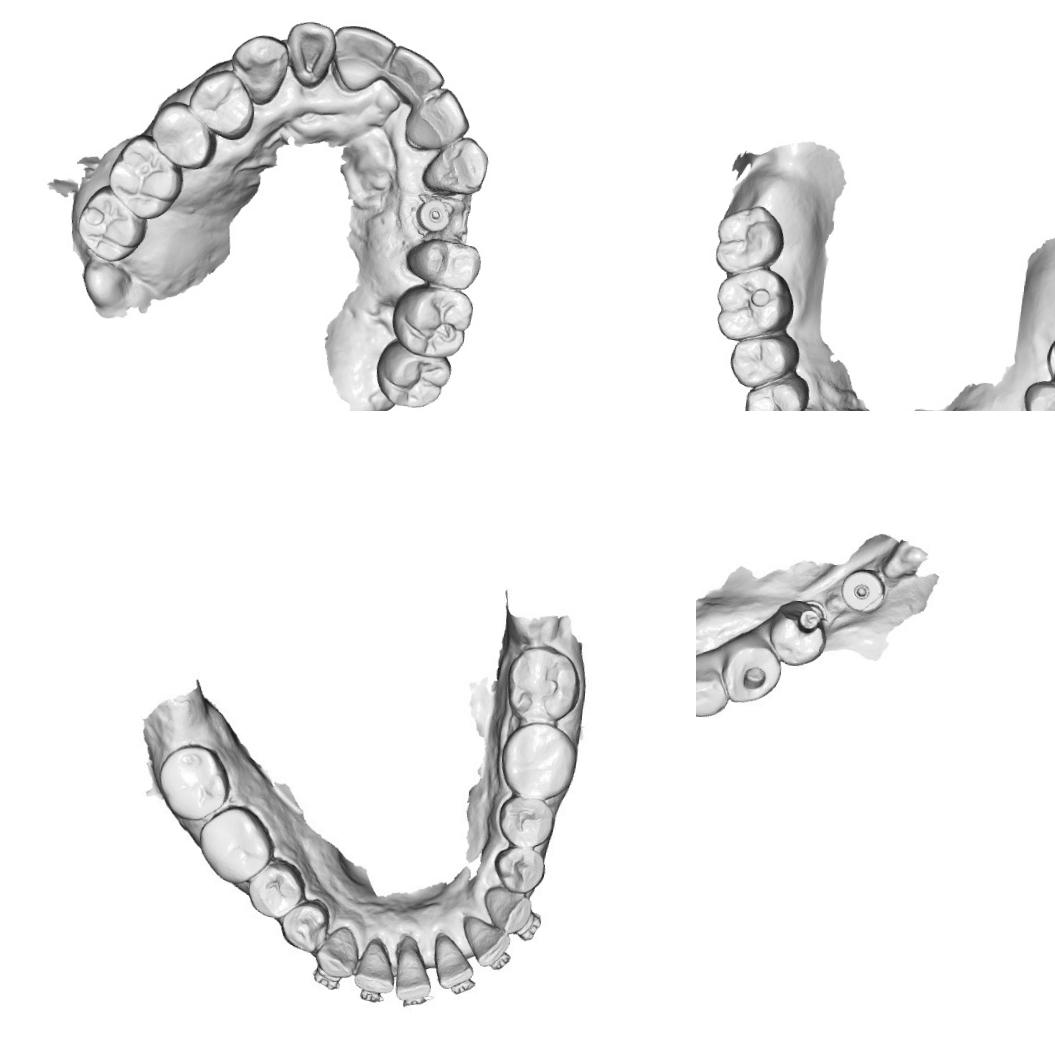canine: (225, 30, 288, 108), (418, 132, 488, 198), (313, 922, 363, 981), (480, 883, 535, 935), (696, 657, 729, 722)
implant: (840, 563, 884, 612), (412, 192, 457, 236)
incisor: (398, 82, 472, 154), (328, 20, 398, 96), (378, 40, 448, 105), (282, 15, 337, 90), (459, 912, 511, 968), (351, 936, 395, 995), (432, 933, 474, 992), (392, 945, 433, 1002)
molar: (102, 130, 186, 224), (708, 265, 796, 346), (388, 278, 474, 360), (498, 722, 578, 806), (71, 181, 148, 267), (368, 337, 457, 411), (196, 804, 270, 886), (708, 201, 786, 278), (508, 646, 582, 727), (155, 742, 227, 821)
premolar: (144, 96, 218, 174), (184, 66, 258, 143), (724, 326, 802, 394), (400, 232, 486, 292), (769, 598, 835, 668), (720, 636, 782, 708), (245, 859, 303, 922), (494, 792, 554, 852), (738, 372, 813, 411), (280, 898, 332, 952), (492, 844, 548, 894), (1017, 377, 1055, 411)
